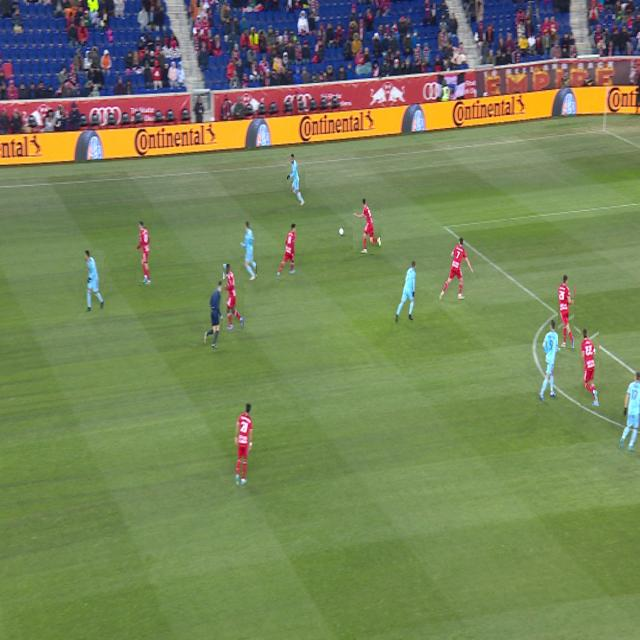football: (338, 227, 344, 236)
player: (439, 237, 473, 300), (539, 318, 561, 402), (619, 372, 640, 451), (235, 401, 253, 487), (354, 199, 381, 254), (581, 328, 599, 406), (395, 259, 416, 322), (224, 264, 244, 330), (85, 250, 104, 313), (276, 223, 296, 278), (559, 275, 574, 348), (241, 221, 257, 281), (287, 154, 305, 206), (137, 221, 151, 285), (240, 275, 242, 277)
referee: (203, 279, 223, 348)
